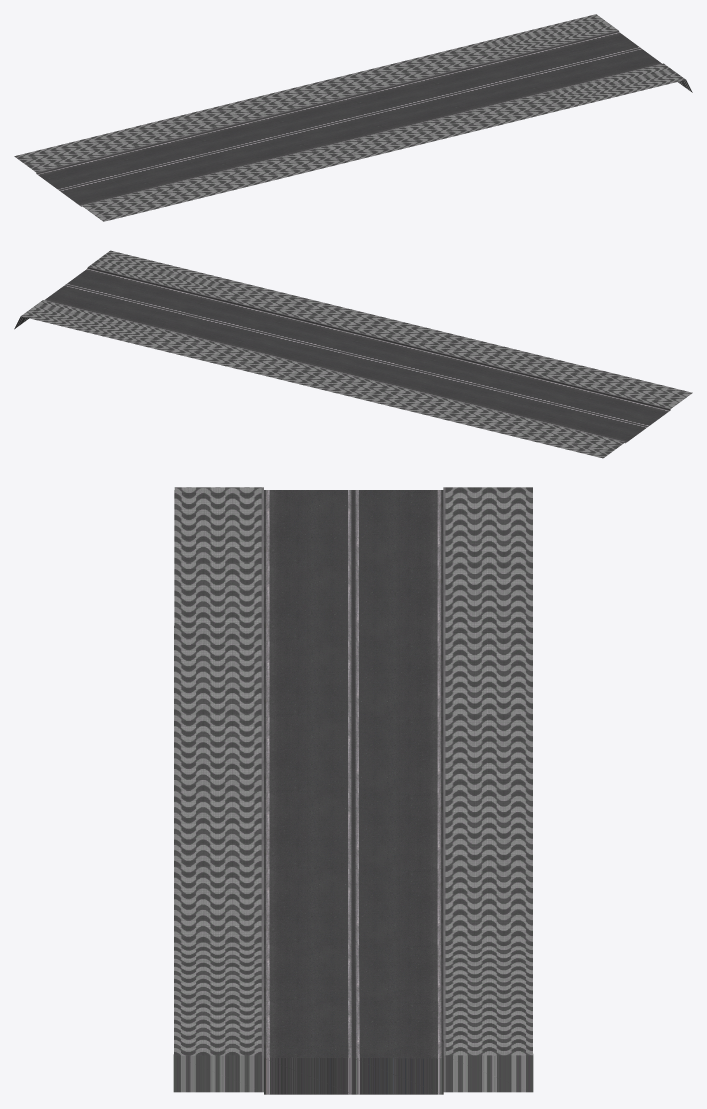
File: road_sfw32.obj
3 views of the same model, one above another, from view 1: azimuth 30°, elevation 25°; view 2: azimuth 150°, elevation 25°; view 3: azimuth 270°, elevation 25° (orthographic). The views are drawn at different scales.
Parts seen in each view (by area): view 1: road_SFW32; view 2: road_SFW32; view 3: road_SFW32.
Boxes of the visible parts, x1,y1,x2,y2 form: road_SFW32: (14, 14, 692, 221); road_SFW32: (14, 250, 692, 458); road_SFW32: (173, 487, 533, 1094).
Size of the model in its own units: 75.86 by 1.99 by 20.03.
Materials: 2 (2 with a texture image).
